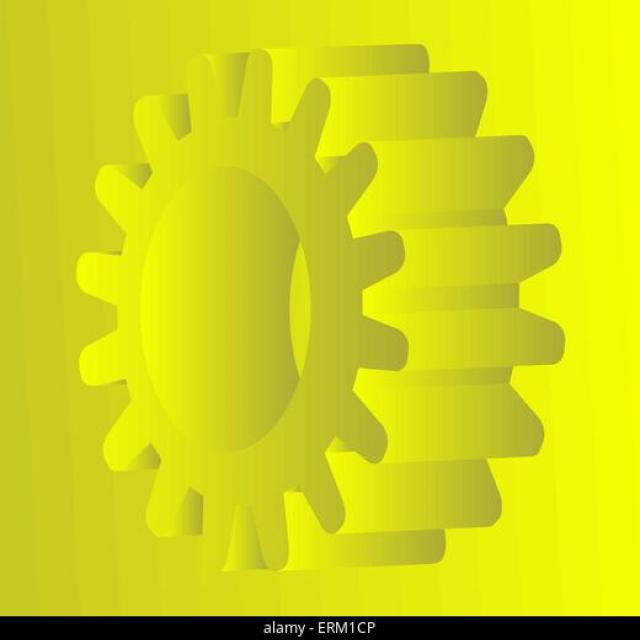Gear: (70, 41, 574, 577)
